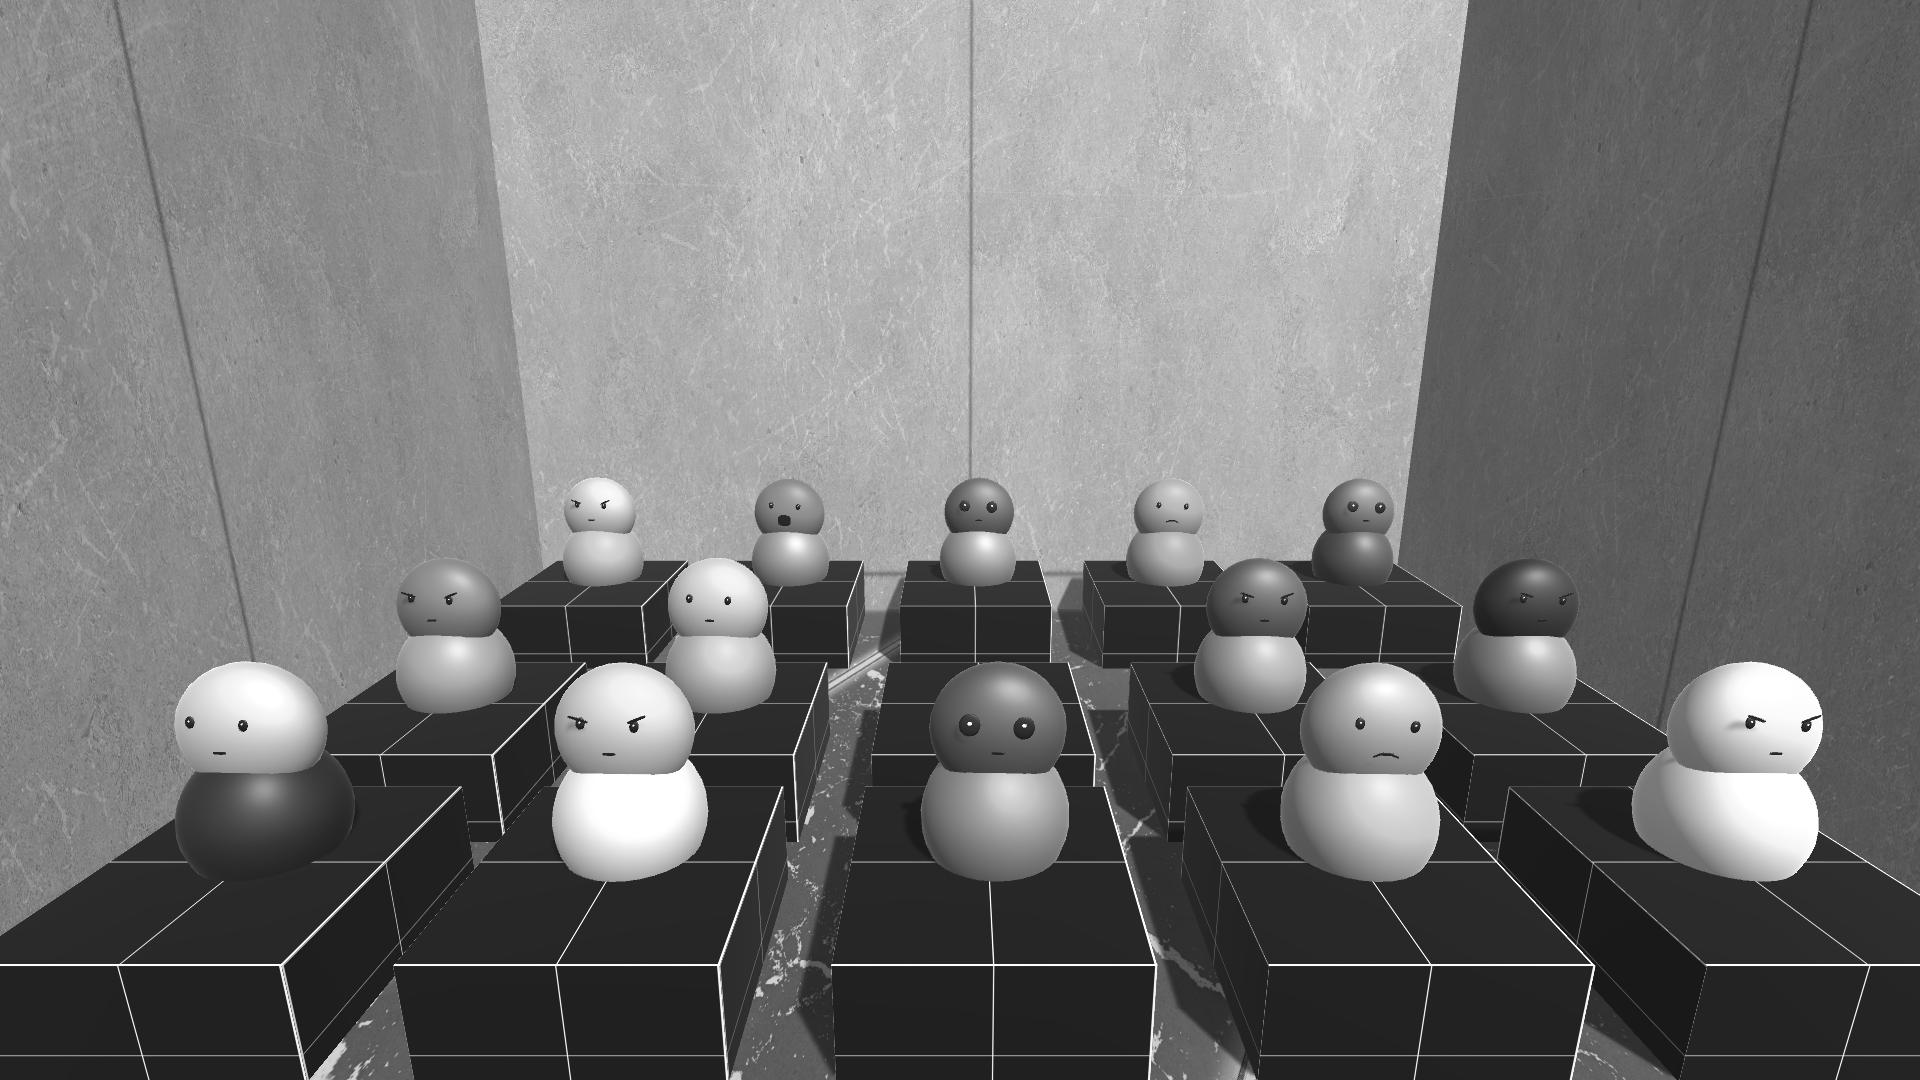blob_atento: (916, 661, 1073, 874), (942, 471, 1040, 600), (1309, 481, 1403, 603)
blob_normal: (154, 650, 363, 889), (657, 556, 779, 731)
blob_raiva: (1627, 655, 1840, 910), (546, 655, 729, 901), (376, 553, 527, 720), (1440, 564, 1593, 721), (1196, 556, 1309, 721), (556, 476, 637, 589)
blob_surpreso: (749, 476, 829, 587)
blob_triste: (1261, 661, 1451, 877), (1121, 473, 1209, 600)
